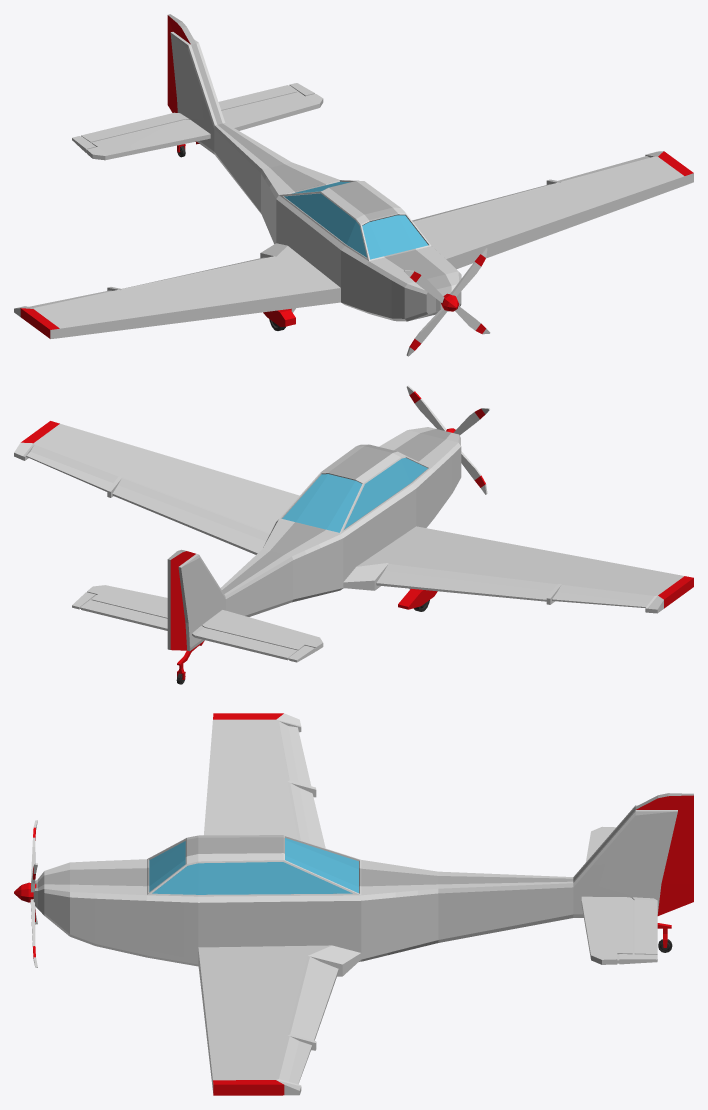
3 renders of one model, top to bottom at view 1: azimuth 30°, elevation 25°; view 2: azimuth 150°, elevation 25°; view 3: azimuth 270°, elevation 25°, orthographic. The views are drawn at different scales.
Visible parts, largest first — view 1: Plane.003, propeller.003; view 2: Plane.003, propeller.003; view 3: Plane.003, propeller.003.
Boxes of the visible parts, x1,y1,x2,y2 form: Plane.003: (14, 14, 693, 339); propeller.003: (404, 247, 490, 356); Plane.003: (14, 421, 693, 684); propeller.003: (406, 385, 490, 494); Plane.003: (14, 713, 693, 1095); propeller.003: (30, 820, 37, 967).
Size of the model in its own units: 396 by 97.33 by 306.
